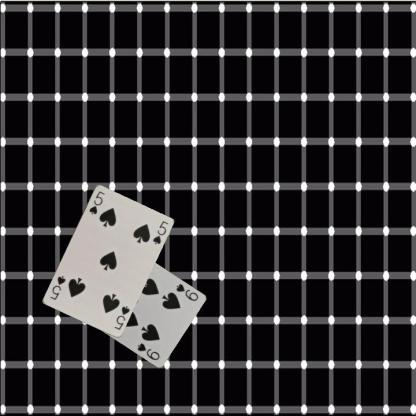5s: (86, 188, 106, 216), (112, 303, 130, 331)
9s: (174, 281, 200, 302)
